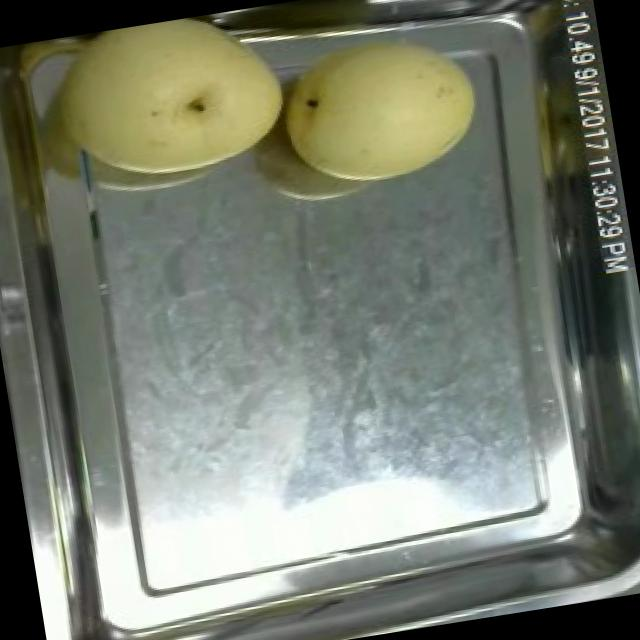Fruit: (38, 2, 308, 207), (261, 11, 505, 206)
